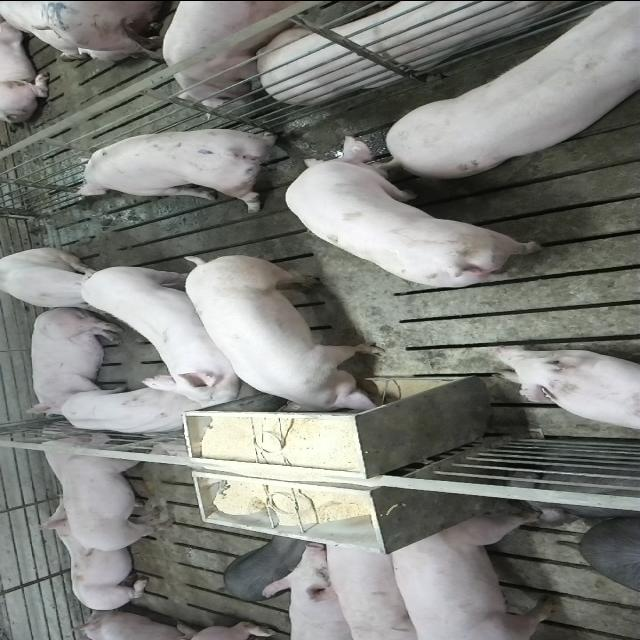Feeding: (177, 255, 396, 421)
Lateral_lying: (254, 0, 596, 101), (22, 304, 126, 416)
Sitting: (1, 247, 113, 310)
Standing: (383, 1, 640, 174), (286, 139, 548, 293), (77, 260, 255, 398), (388, 508, 562, 638), (71, 126, 293, 210), (164, 0, 322, 106), (60, 428, 182, 553), (320, 534, 433, 637), (260, 542, 360, 640)
Sternal_lying: (488, 348, 640, 436), (31, 508, 155, 610)
